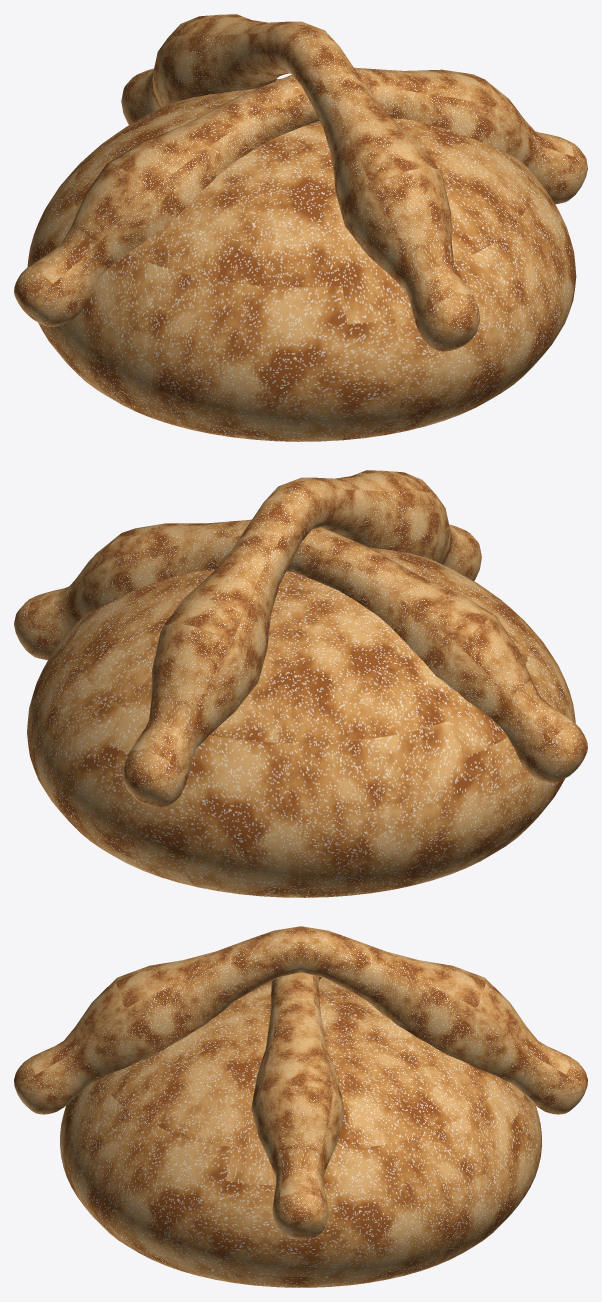
File: pan_de_muerto.obj
The picture shows the model from 3 angles, top to bottom: view 1: azimuth 30°, elevation 25°; view 2: azimuth 150°, elevation 25°; view 3: azimuth 270°, elevation 25°; orthographic projection. The views are drawn at different scales.
Parts seen in each view (by area): view 1: Cuerpo, Hueso01, Hueso02; view 2: Cuerpo, Hueso01, Hueso02; view 3: Cuerpo, Hueso01, Hueso02.
Boxes of the visible parts, <box> form: Cuerpo: <box>27,78,576,441</box>; Hueso01: <box>121,14,479,351</box>; Hueso02: <box>14,67,587,326</box>; Cuerpo: <box>27,547,575,897</box>; Hueso01: <box>123,470,481,807</box>; Hueso02: <box>14,519,587,782</box>; Cuerpo: <box>60,977,541,1287</box>; Hueso01: <box>14,926,587,1114</box>; Hueso02: <box>251,972,344,1239</box>.
Size of the model in its own units: 0.2047 by 0.1111 by 0.2056.
2 materials, 2 textured.
